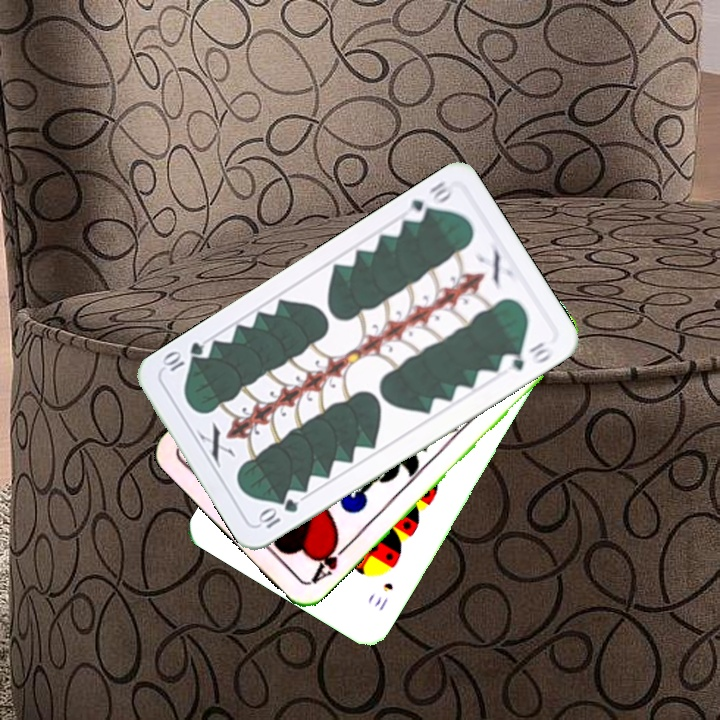G10: (400, 177, 455, 226), (254, 494, 301, 532)
HA: (306, 534, 352, 587)
S10: (370, 578, 396, 614)
